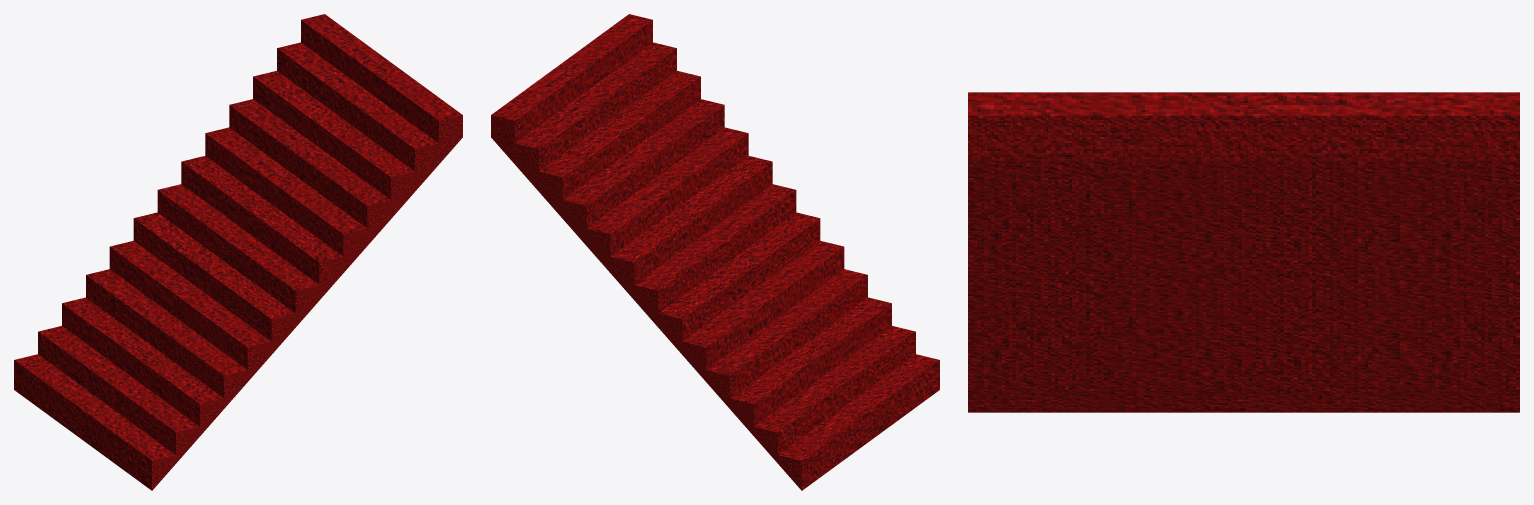
The model's file is stairs0.glb.
3 views of the same model, side by side, from view 1: azimuth 30°, elevation 25°; view 2: azimuth 150°, elevation 25°; view 3: azimuth 270°, elevation 25° (orthographic). The views are drawn at different scales.
Parts seen in each view (by area): view 1: stairs0; view 2: stairs0; view 3: stairs0.
Boxes of the visible parts, x1,y1,x2,y2 form: stairs0: [14, 14, 462, 490]; stairs0: [491, 14, 939, 490]; stairs0: [968, 92, 1519, 412].
Size of the model in its own units: 2.6 by 2.4 by 2.
Materials: 1 (1 with a texture image).
